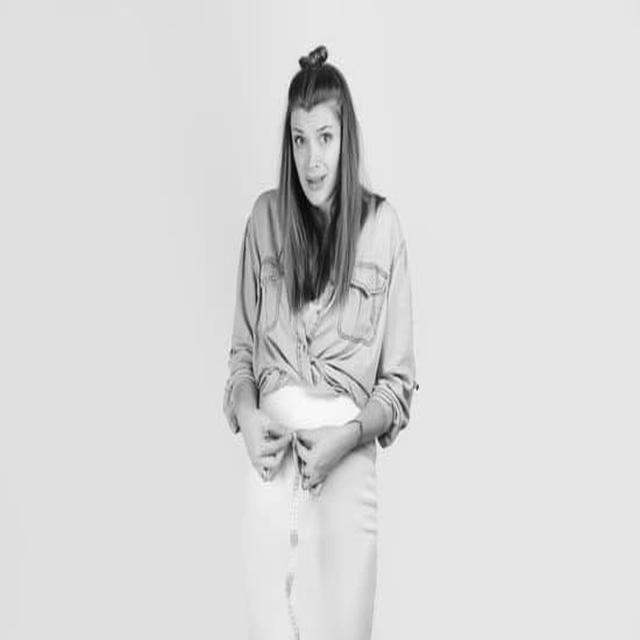Fear: (290, 106, 340, 206)
